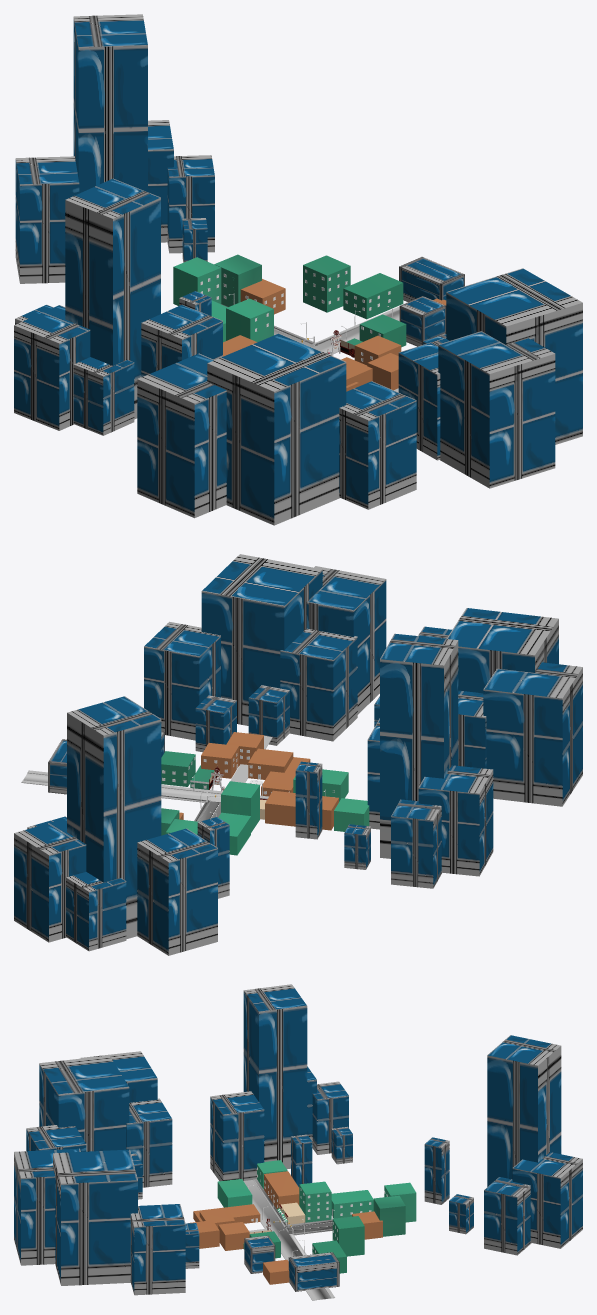
File: last straw.fbx
3 views of the same model, one above another, from view 1: azimuth 30°, elevation 25°; view 2: azimuth 150°, elevation 25°; view 3: azimuth 270°, elevation 25° (orthographic). The views are drawn at different scales.
Parts seen in each view (by area): view 1: Distant buildings, Buildings, Windows; view 2: Distant buildings, Buildings, Calle 8, Sidewalk South; view 3: Distant buildings, Buildings, Calle 8, Side walk north.
Boxes of the visible parts, x1,y1,x2,y2 form: Distant buildings: (14,14,582,525); Buildings: (173,254,446,391); Windows: (200,269,390,361); Distant buildings: (14,554,582,955); Buildings: (161,732,369,855); Calle 8: (23,773,220,802); Sidewalk South: (27,735,272,799); Distant buildings: (14,984,582,1295); Buildings: (188,1160,416,1284); Calle 8: (243,1180,331,1299); Side walk north: (253,1179,334,1298).
Size of the model in its own units: 27178 by 12432 by 37185.
